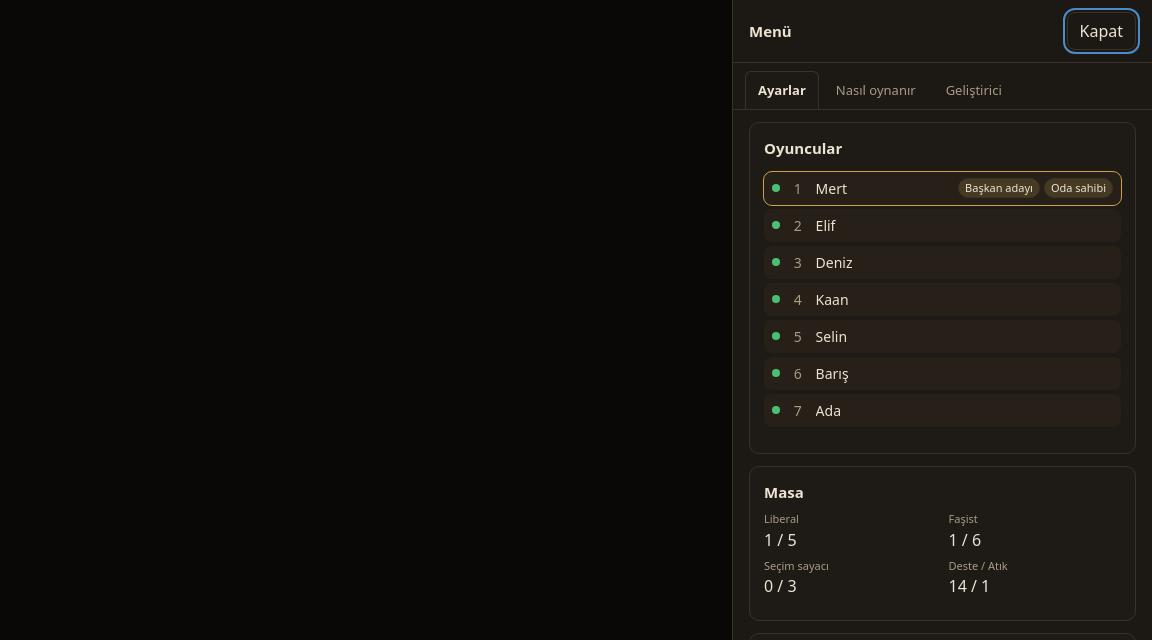
Test: GameMenu — Geliştirici bölümü (DEV) › INVALID_OPTION yanıtında ham kod ve olası nedenler yazılır
The image size is (1152, 640).
Click the tab "Geliştirici". click: [974, 90]
box: [933,71,1015,109]
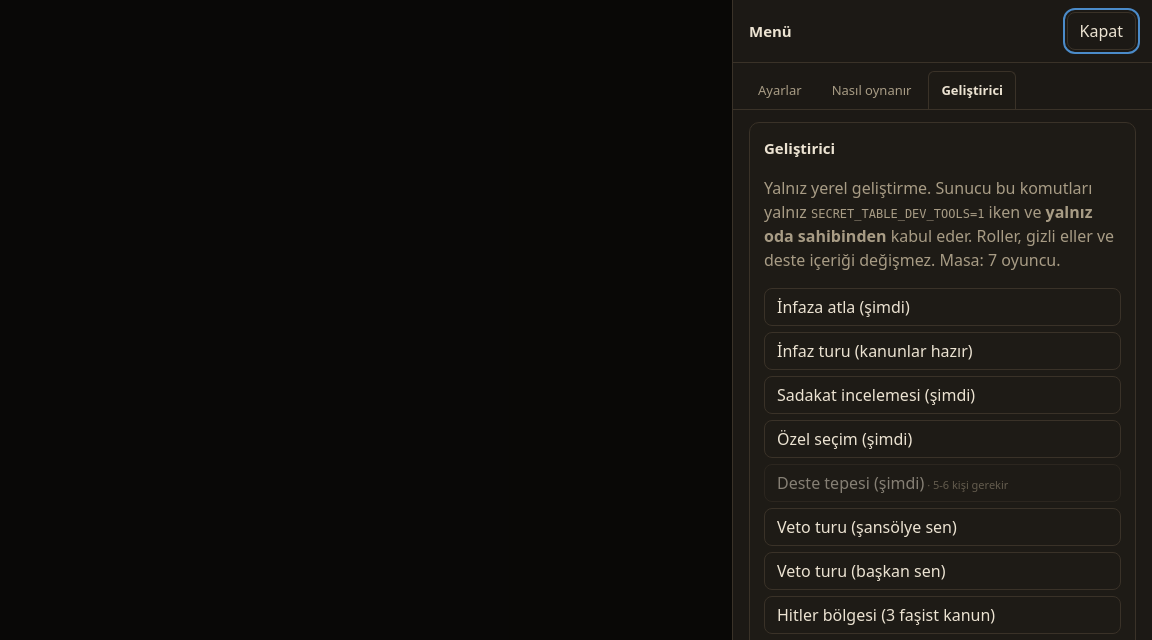
Click the button "İnfaza atla (şimdi)". click: [843, 306]
box: [764,288,1121,326]
(page scrolled)
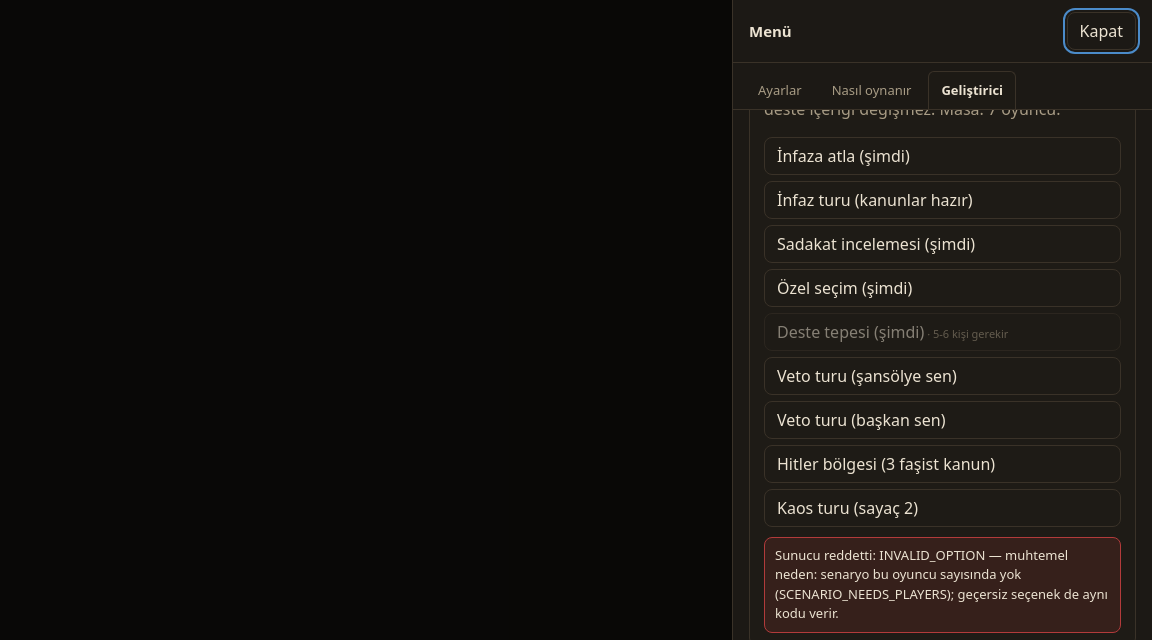
Expected: the message shows "INVALID_OPTION", [775,546,1108,622]
Expected: the message shows "SCENARIO_NEEDS_PLAYERS", [775,546,1108,622]
Expected: the message shows "geçersiz seçenek", [775,546,1108,622]
